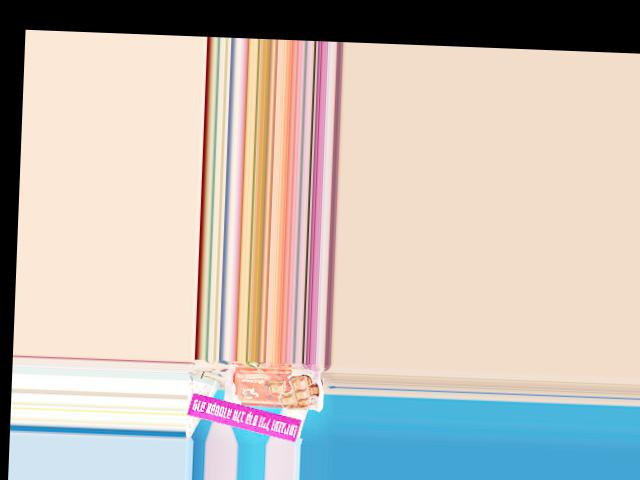chocolate: (221, 363, 327, 413)
